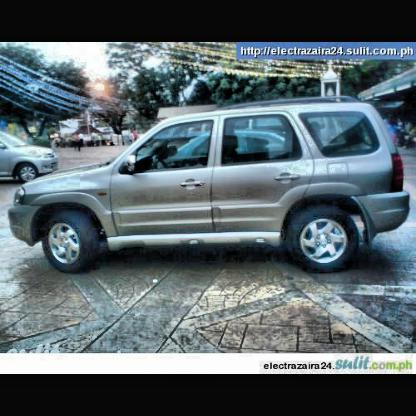Mazda Tribute SUV 2011: (7, 95, 413, 276)
